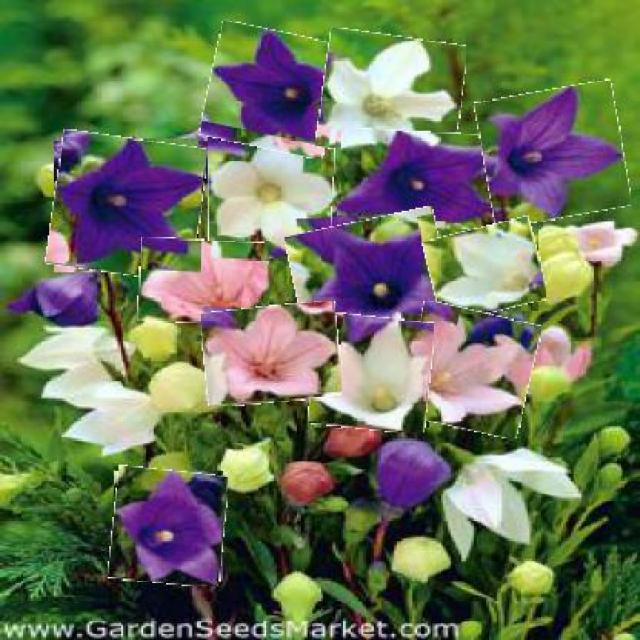Flower: (292, 213, 453, 356), (49, 134, 205, 278), (331, 130, 498, 258), (479, 84, 628, 222), (319, 32, 465, 161), (204, 27, 341, 155), (404, 307, 536, 435), (210, 136, 339, 259), (312, 315, 433, 432), (203, 304, 343, 405), (111, 469, 228, 586), (426, 222, 545, 319), (138, 239, 270, 325)
